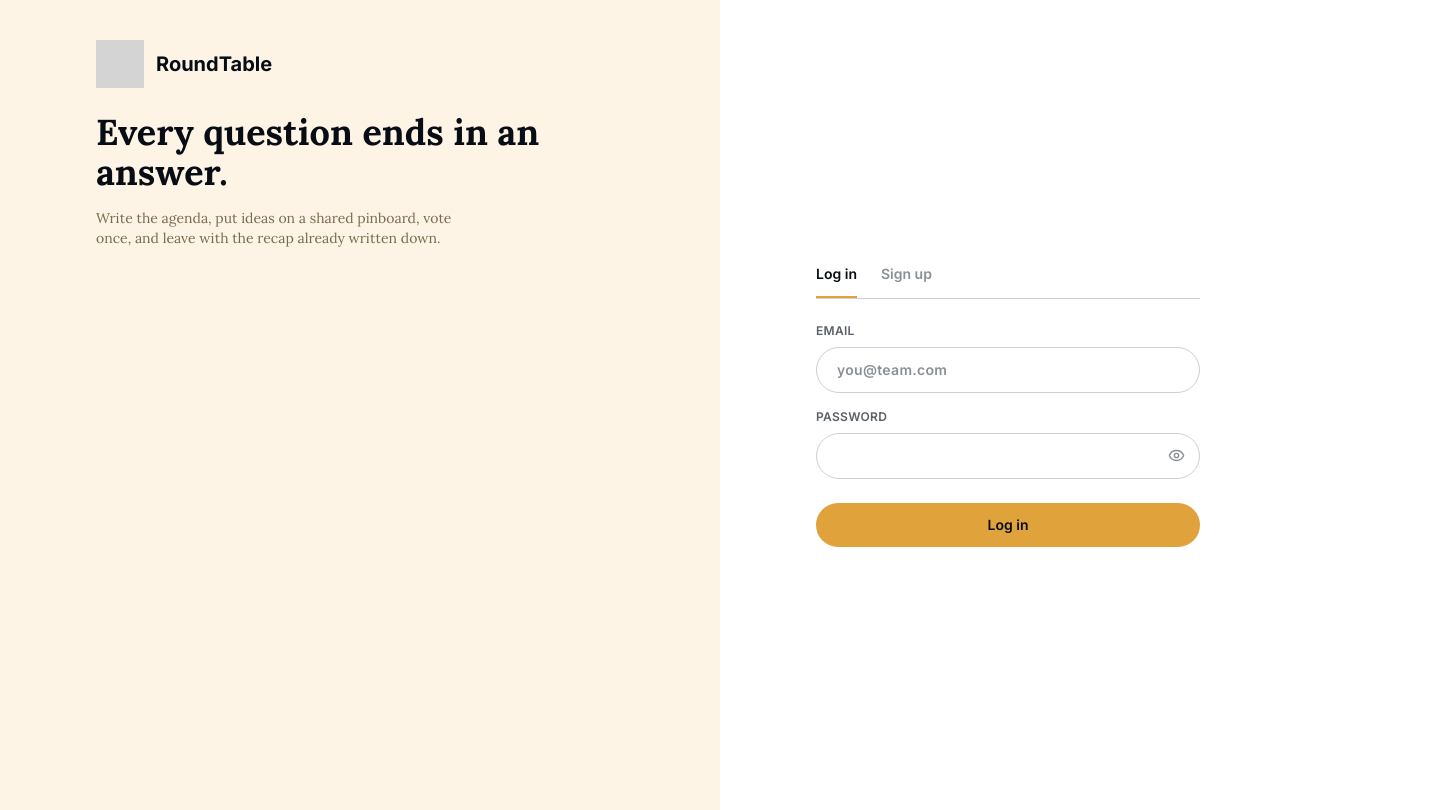
LoginPage › shows the generic error and does not navigate on invalid credentials
The width and height of the screenshot is (1440, 810).
Type "alice@example.com" into the field labelled "Email" at (1008, 370), box [816,346,1200,392]
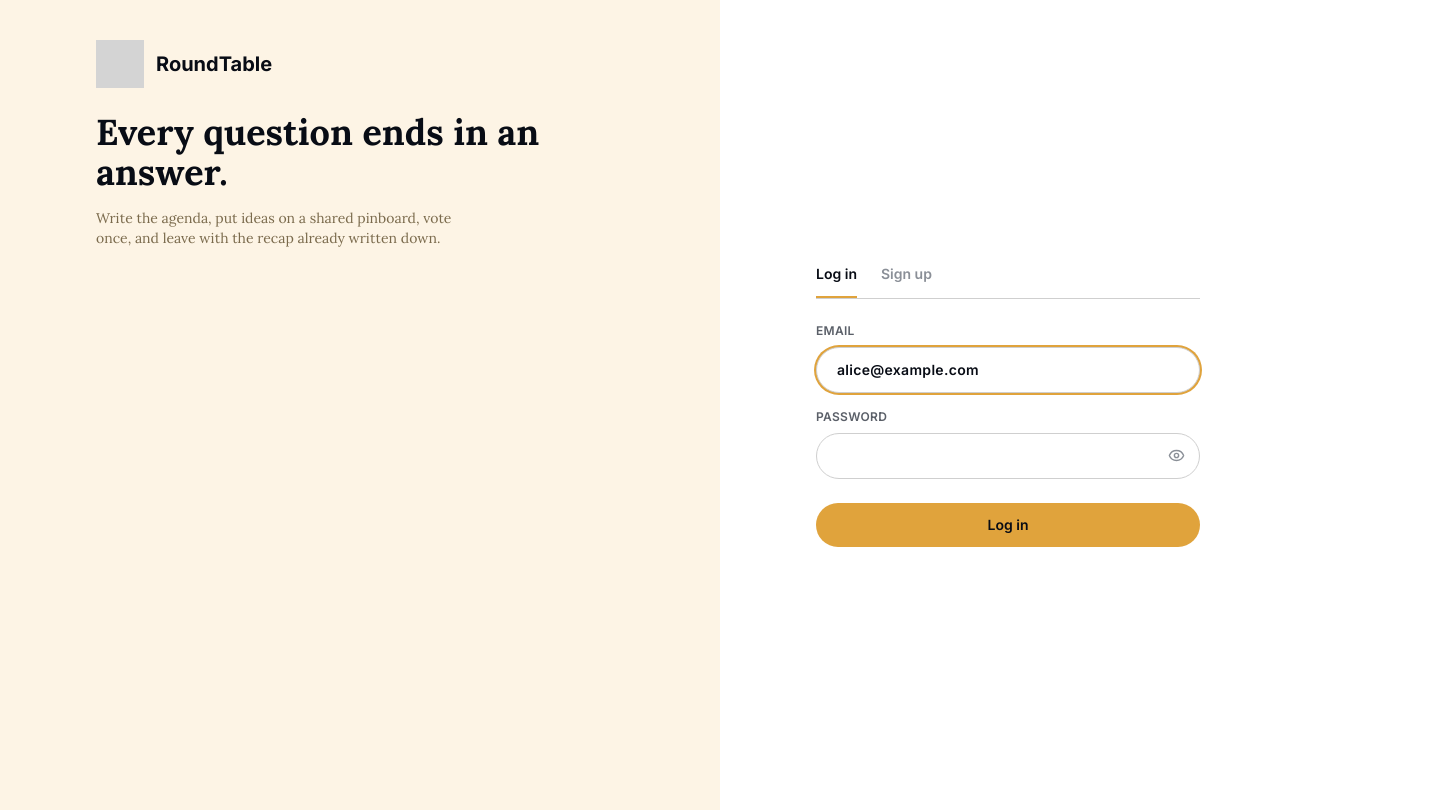
Type "wrongpassword" into the password field labelled "Password" at (1008, 456), box [816,432,1200,478]
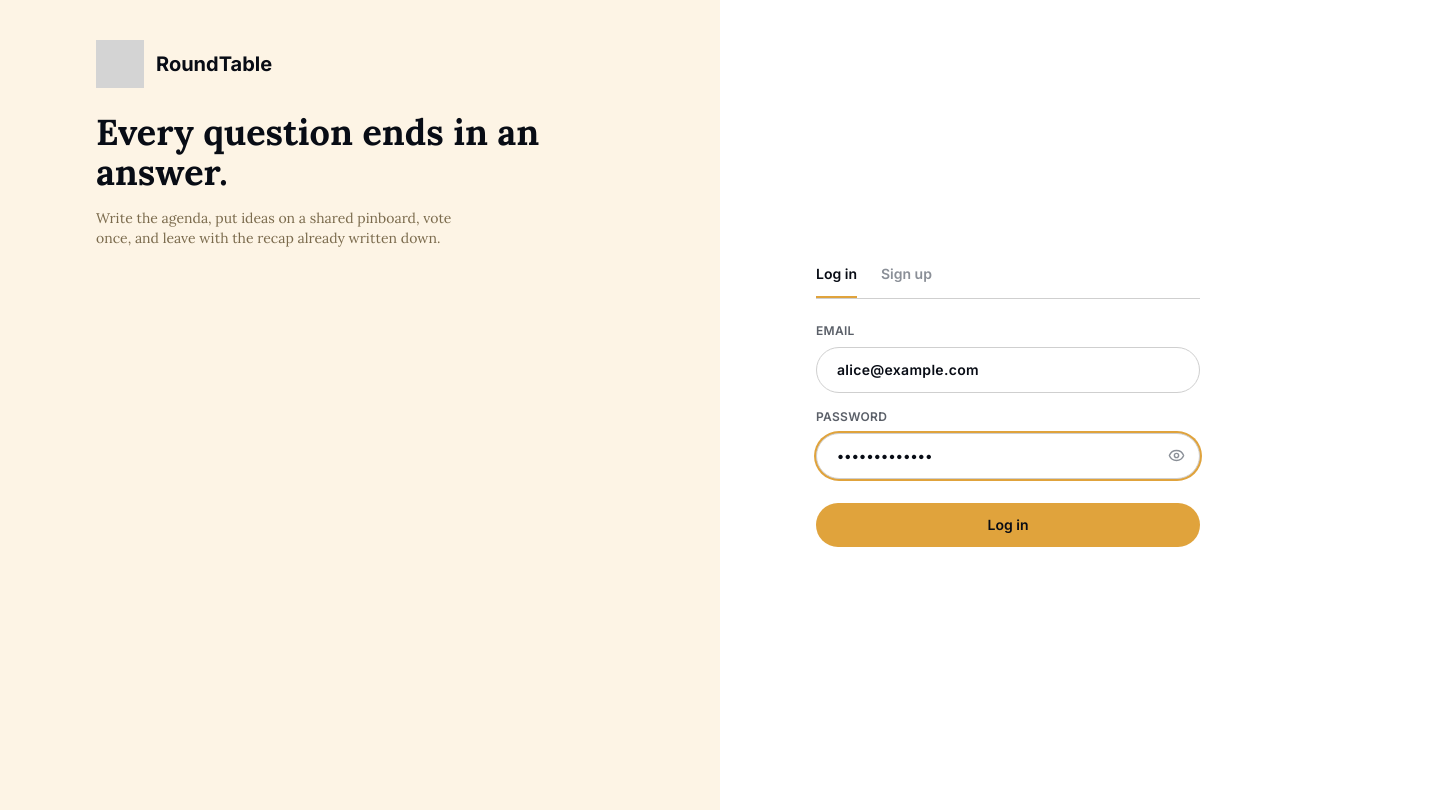
Click the button "Log in" at (1008, 524), box [816,502,1200,546]
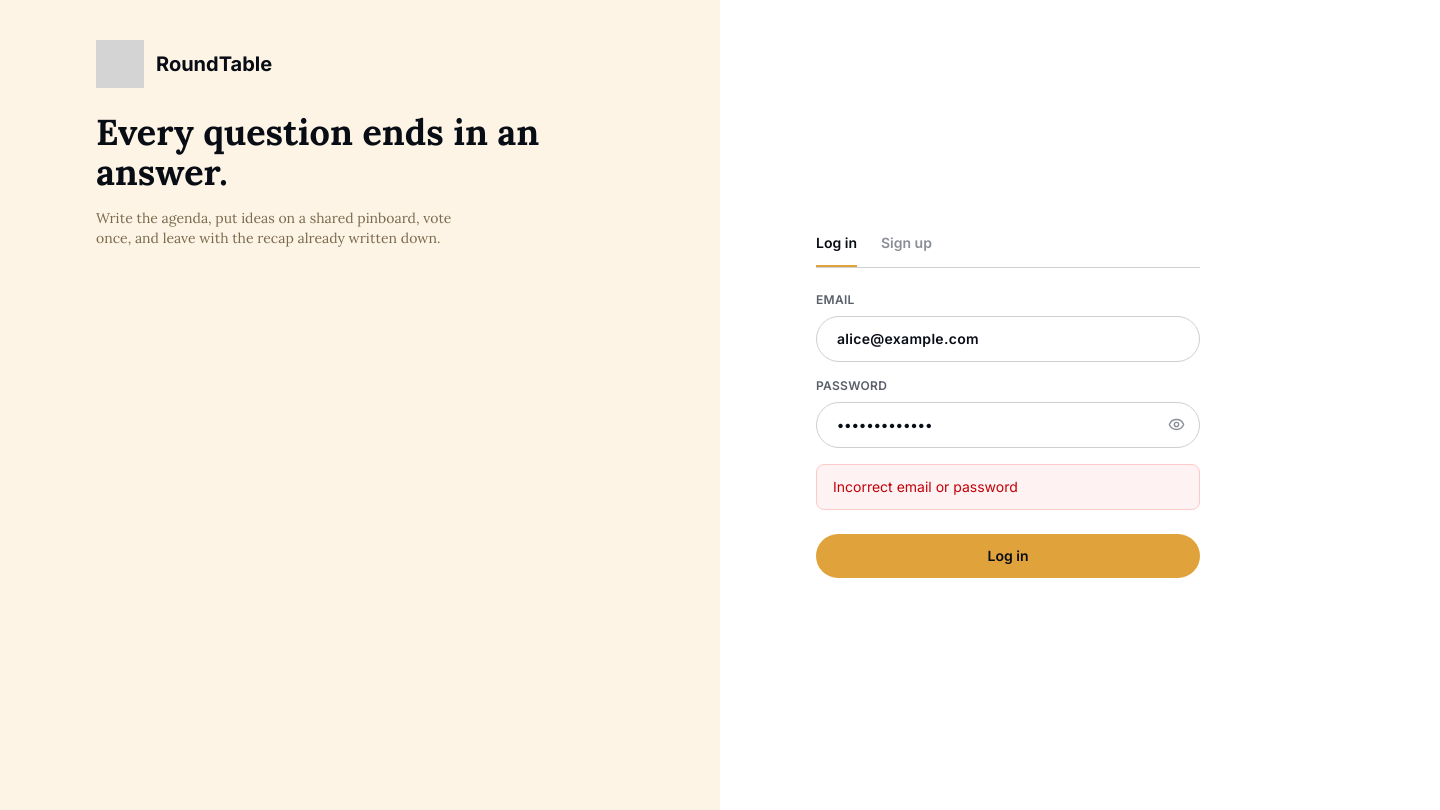
Expected: the message reads "Incorrect email or password", [833,478,1018,494]
